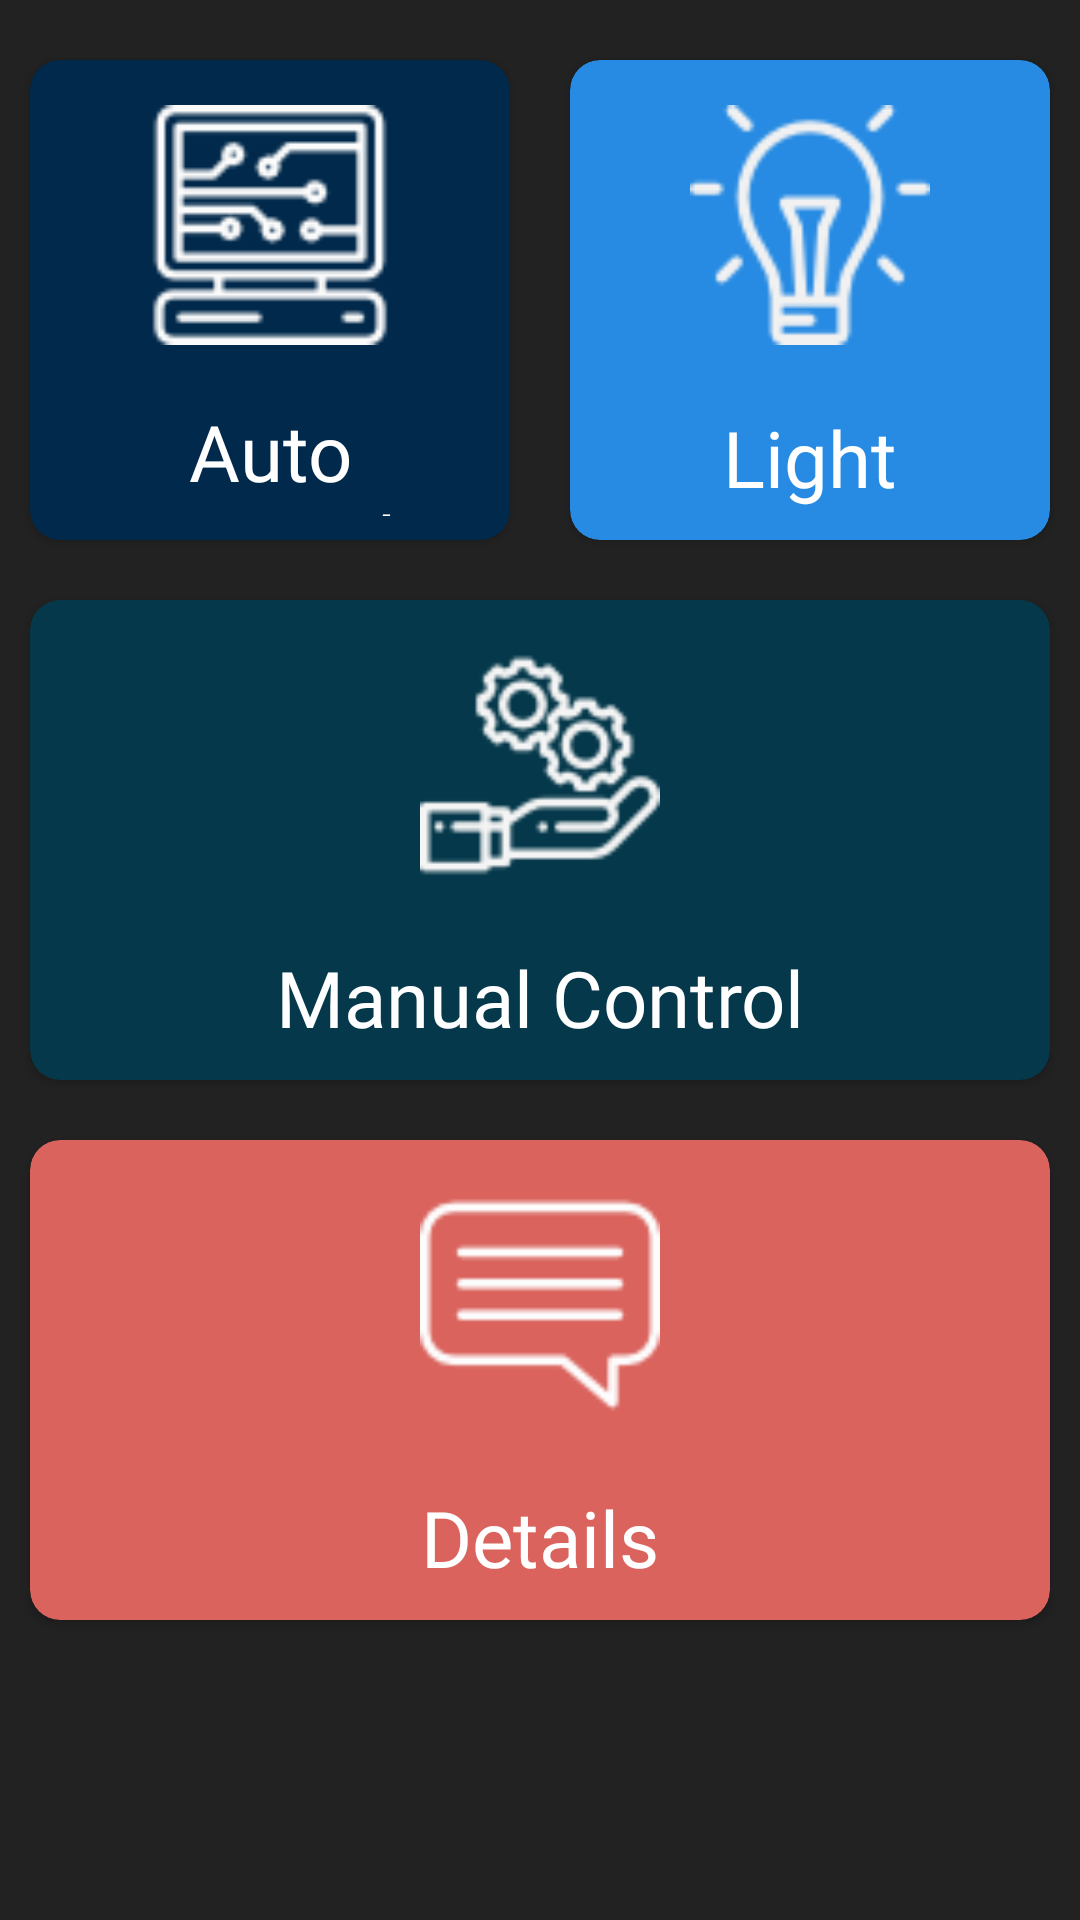

Icons on this 1080*1920 Android screen, each with its box as (x1, y1, x2, y2):
computer: (152, 105, 388, 345)
idea: (690, 105, 930, 345)
settings: (420, 655, 660, 875)
